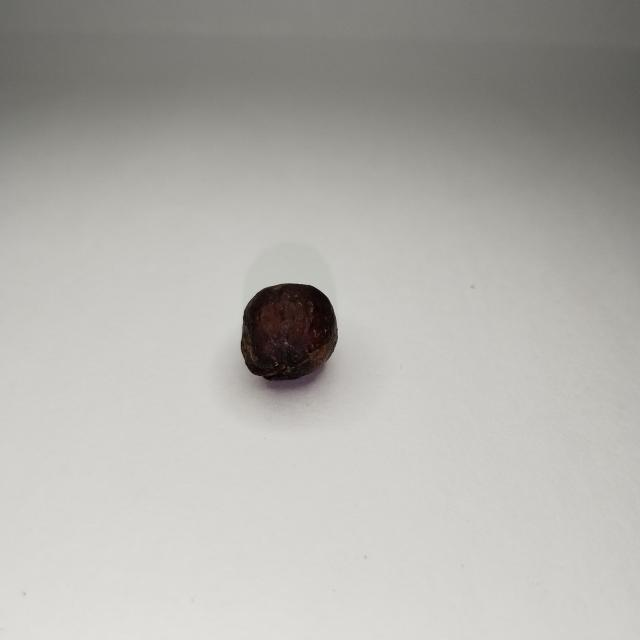Danado: (241, 283, 337, 381)
